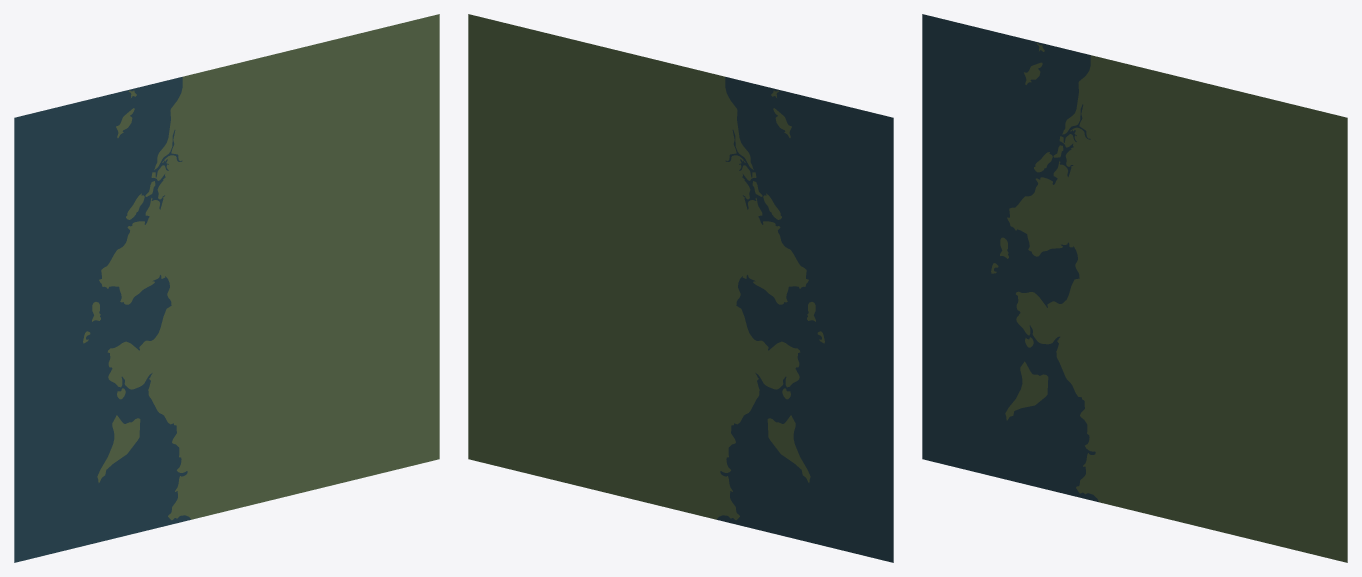
File: shape_104_Coast_04.glb
The picture shows the model from 3 angles, left to right: view 1: azimuth 30°, elevation 25°; view 2: azimuth 150°, elevation 25°; view 3: azimuth 330°, elevation 25°; orthographic projection.
Size of the model in its own units: 4096 by 4096 by 0.
